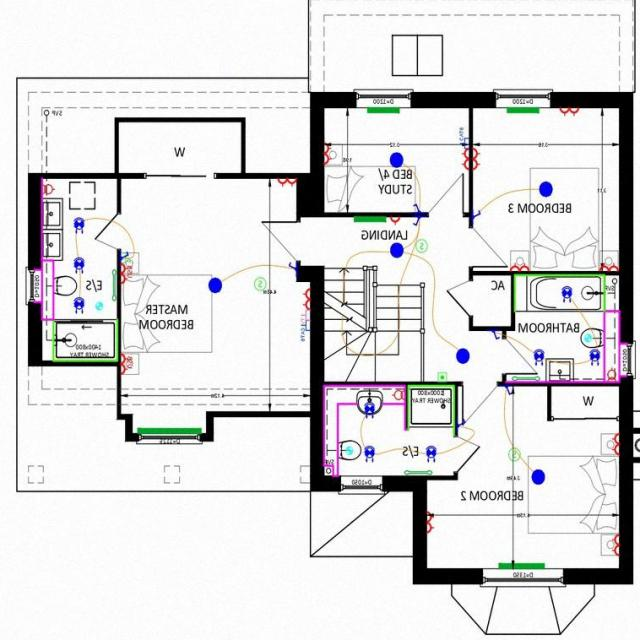Cat 6 Data Socket: (460, 126, 470, 148), (301, 319, 311, 341)
Ceiling Mounted Continuous Extract FanWith Boost Mode Activated By Light Switch: (96, 301, 105, 309), (585, 333, 593, 341), (346, 446, 354, 454)
Co-Ax TV Socket: (301, 309, 311, 323)
Double Socket: (303, 287, 311, 309), (561, 107, 580, 116), (462, 148, 470, 169), (279, 177, 297, 186), (325, 143, 333, 163), (474, 147, 481, 169), (428, 511, 435, 533), (613, 433, 620, 454), (601, 262, 619, 270), (613, 534, 620, 554), (512, 263, 530, 270)
Full Height Tiling: (515, 274, 606, 310), (53, 319, 119, 361), (408, 384, 456, 436)
Light Switch: (492, 329, 501, 339), (414, 216, 422, 226), (414, 203, 423, 211), (122, 251, 130, 260), (475, 208, 482, 218), (290, 261, 297, 271), (458, 419, 467, 426)
Low Energy Downlighter: (74, 216, 86, 234), (74, 296, 86, 314), (562, 285, 574, 302), (534, 348, 546, 365), (74, 256, 86, 273), (364, 401, 376, 418), (364, 445, 376, 462), (590, 348, 601, 365), (427, 445, 438, 462)
Low Energy Pendant Light: (539, 180, 554, 197), (390, 152, 405, 167), (457, 347, 471, 363), (209, 276, 223, 292), (532, 468, 545, 484), (391, 242, 404, 257)
Mains Wired Smoke Detector: (255, 276, 268, 291), (509, 448, 521, 460)
Programmable Room Thermostat: (438, 371, 448, 381)
Radiator: (138, 427, 202, 433), (499, 562, 545, 568), (354, 215, 388, 222), (508, 108, 540, 112), (368, 108, 400, 112)
Shaver Socket: (607, 366, 617, 381), (44, 183, 56, 194), (393, 390, 406, 400)
Single Socket: (391, 216, 401, 225)
USB Double Socket: (122, 262, 134, 283), (122, 353, 134, 373)
